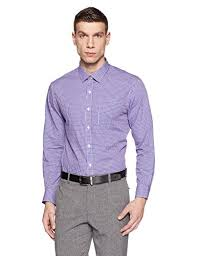F_belt: (58, 166, 131, 188)
F_dress pants: (54, 177, 133, 256)
F_shirt: (29, 60, 157, 207)
